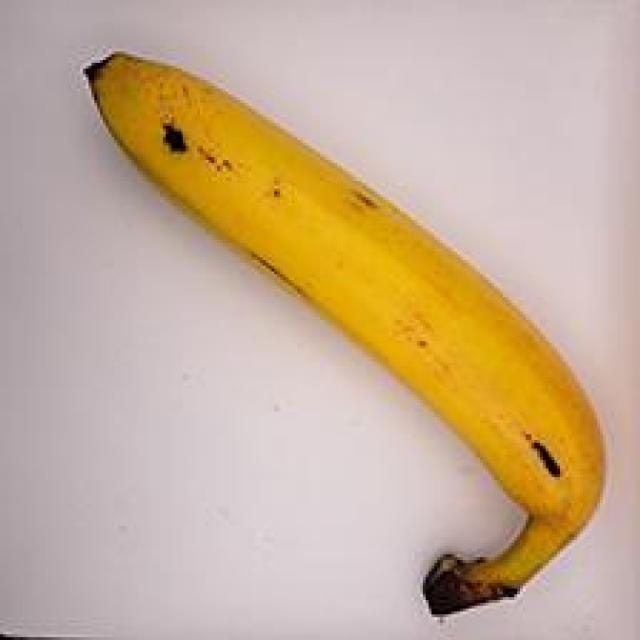Ripe: (61, 21, 617, 632)
